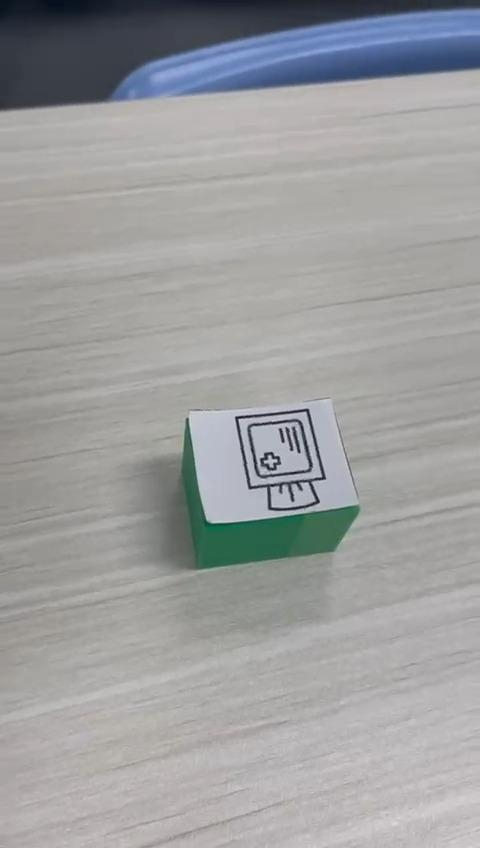Gauze: (180, 395, 361, 570)
